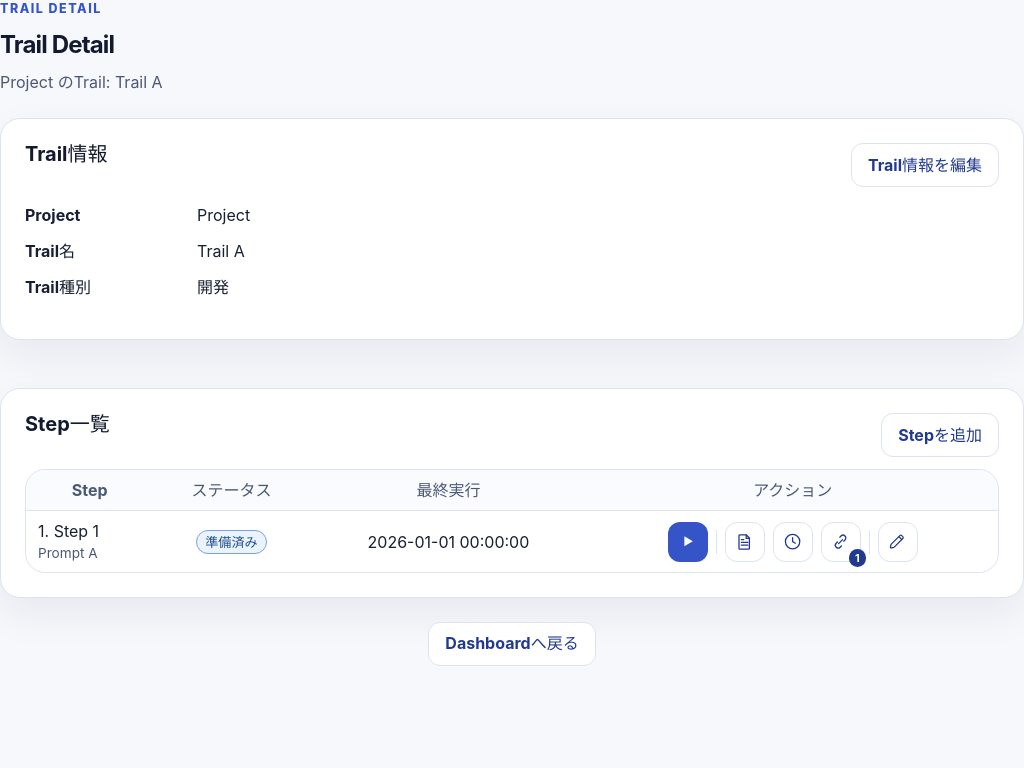
TrailDetailPage › keeps a Link and its retry confirmation when deletion fails
Step 1. Click the button named "関連リンクを表示" → (841, 542), box [821,522,861,562]
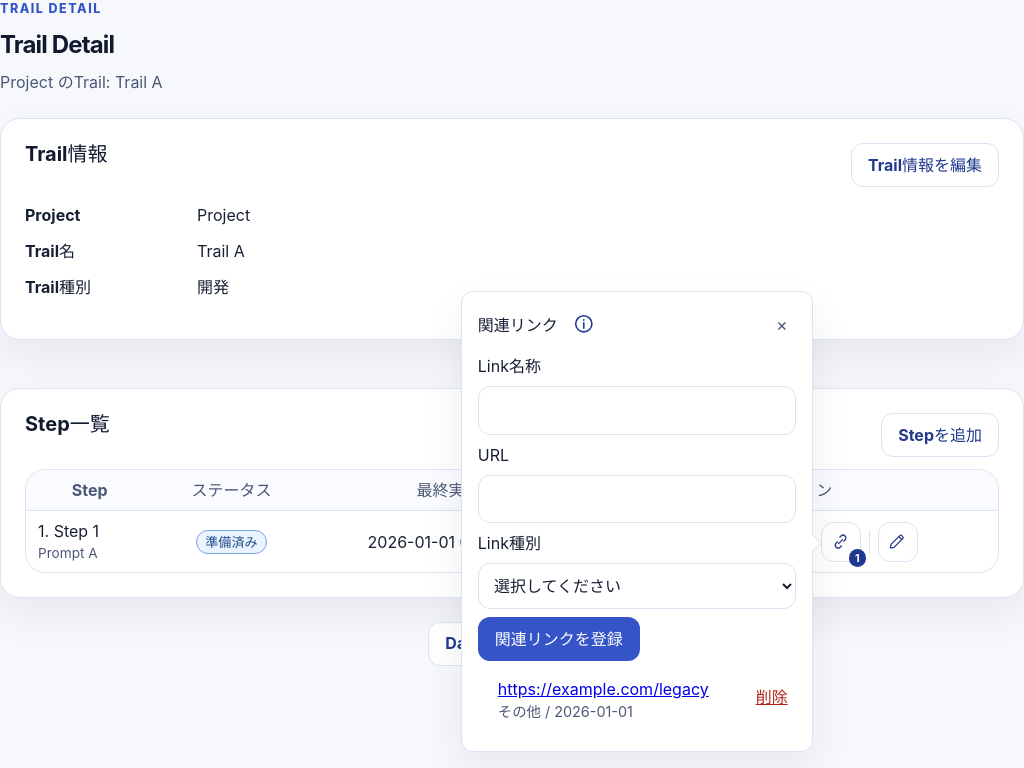
Step 2. Click the button with aria-label "https://example.com/legacyを削除" → (772, 697), box [748,677,796,717]
(page scrolled)
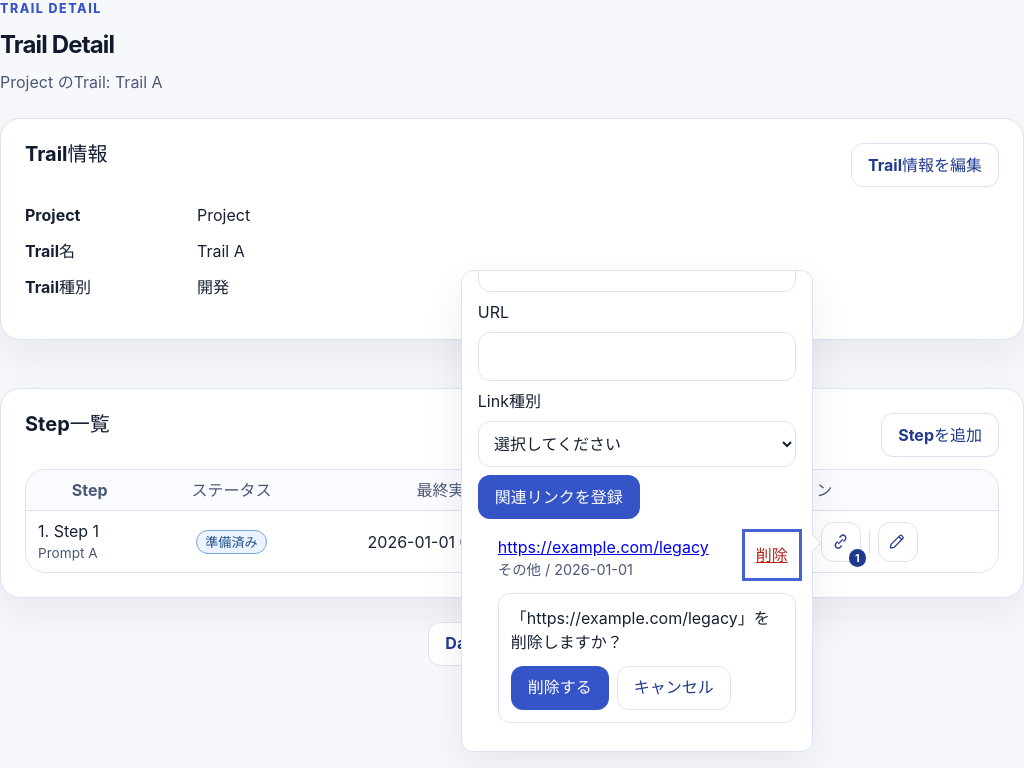
Step 3. Click the button "削除する" → (560, 688), box [511,666,609,710]
(page scrolled)
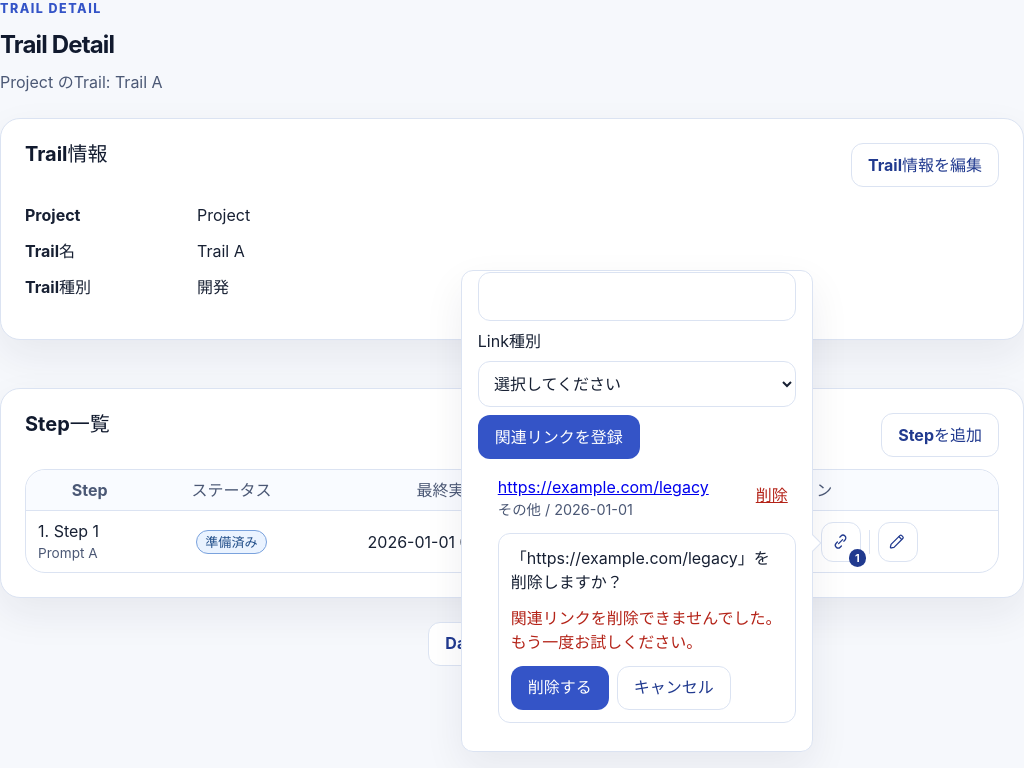
Now the link "https://example.com/legacy" is shown, box [498,475,736,499]
Now the button "削除する" is enabled, box [511,666,609,710]
Now the text "関連リンクを削除できませんでした。もう一度お試しください。" is shown, box [511,606,783,654]
